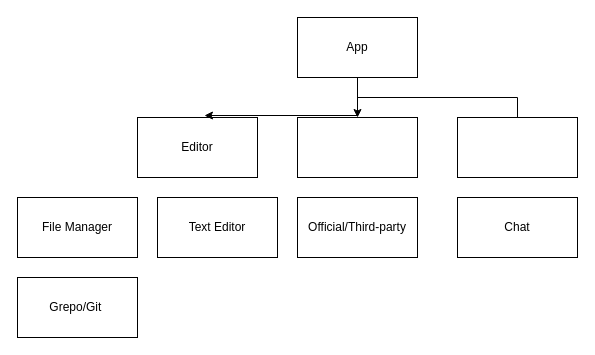
Image size: 595x355. Some labels were removed from this diagram. Each missing label, with the box of its shape:
Extensions: (296, 116, 418, 178)
TeamWork: (456, 116, 578, 178)
